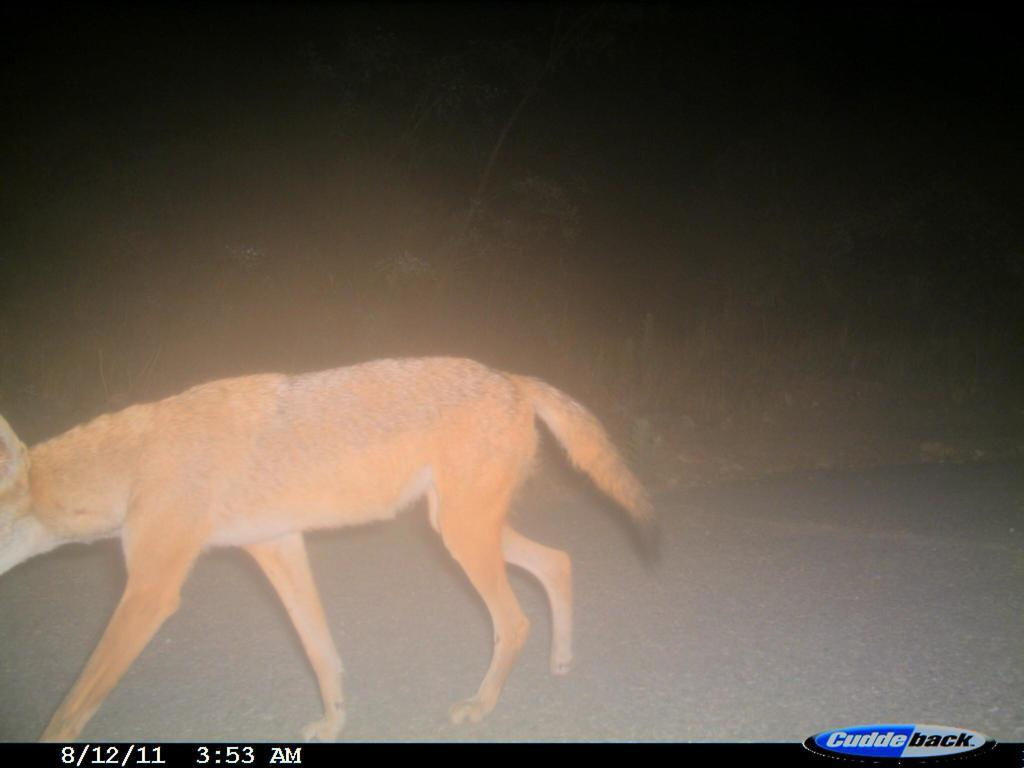coyote: (1, 350, 666, 746)
